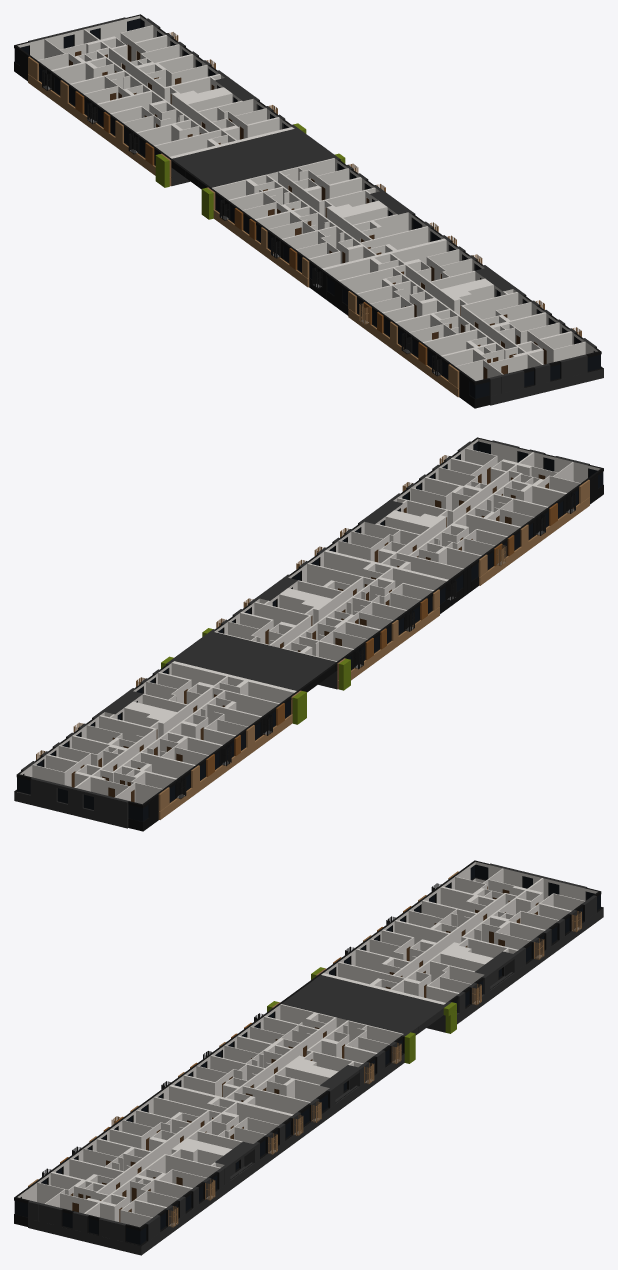
File: floor_2.FBX
3 renders of one model, top to bottom at view 1: azimuth 30°, elevation 25°; view 2: azimuth 150°, elevation 25°; view 3: azimuth 330°, elevation 25°, orthographic.
Parts seen in each view (by area): view 1: floor_2; view 2: floor_2; view 3: floor_2.
Part boxes in pixels (x1=…): floor_2: x1=14, y1=14, x2=603, y2=408; floor_2: x1=14, y1=437, x2=603, y2=831; floor_2: x1=14, y1=860, x2=603, y2=1255.
Bounding box in the file's own units: 18.75 × 3.35 × 108.
